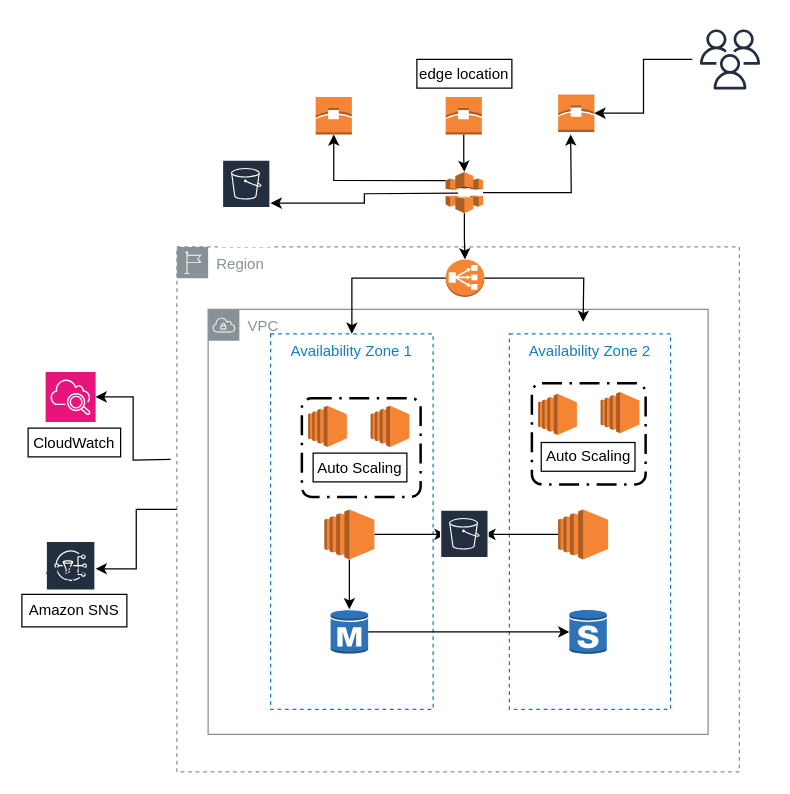
The diagram is 790 pixels wide and 794 high, and some of its shapes have lost their labels. Here are the shapes that lost their labels. From the top down, the centre of each, then its label:
the point at 729,59: Users
the point at 246,202: Amazon S3
the point at 464,552: System Logs
